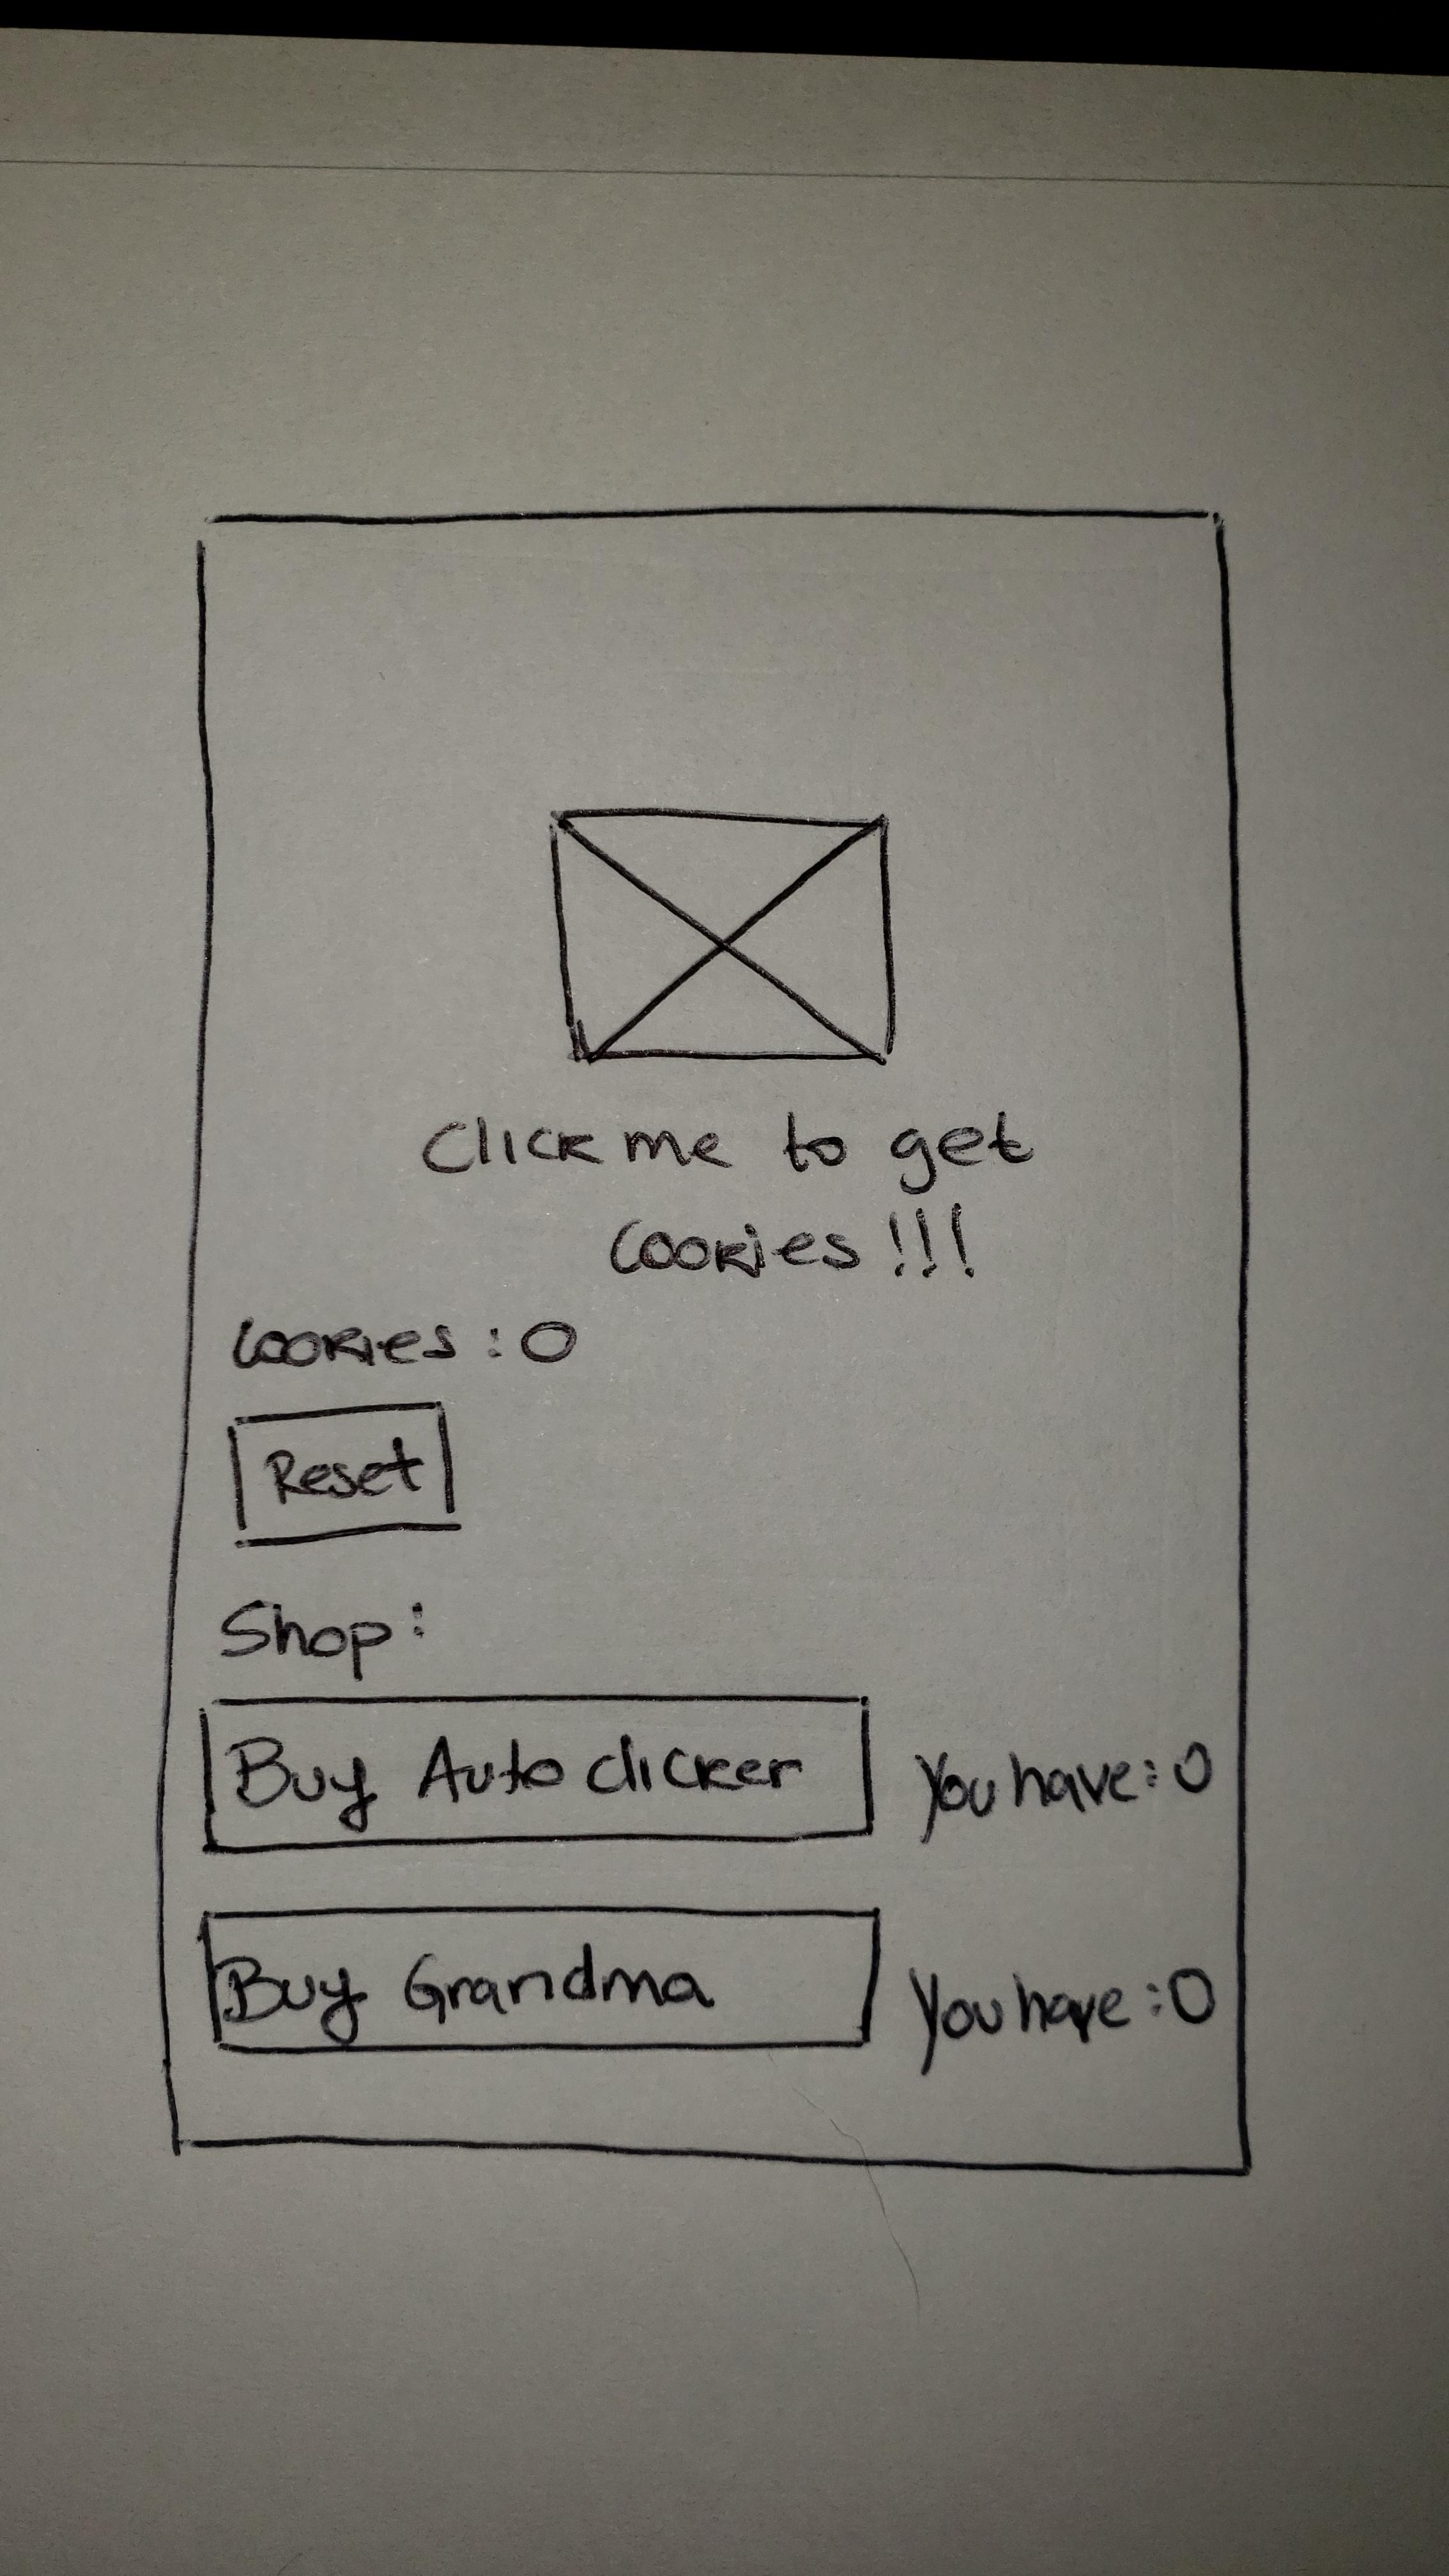Button: (196, 1691, 874, 1858), (196, 1904, 885, 2058), (228, 1401, 462, 1552)
Image: (552, 812, 895, 1060)
Label: (419, 1113, 1044, 1284), (909, 1962, 1219, 2079), (913, 1741, 1215, 1849), (228, 1311, 580, 1382), (218, 1592, 432, 1684)
Screen: (156, 501, 1258, 2178)
